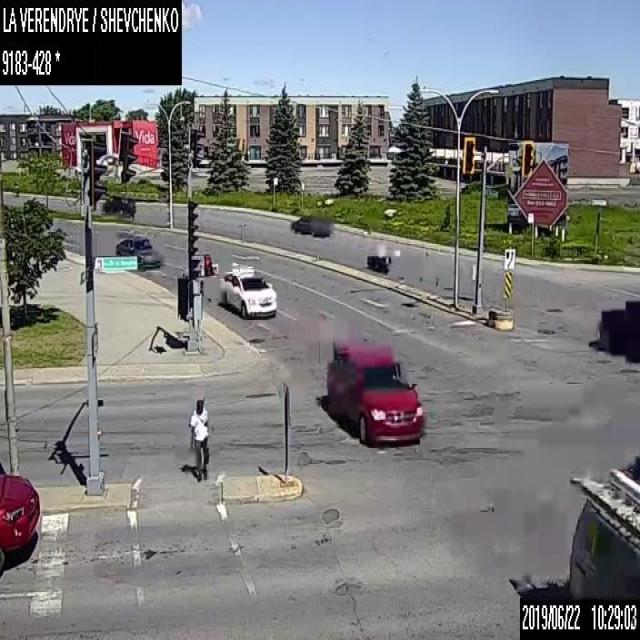pedestrian: (188, 398, 208, 482)
vehicle: (566, 453, 639, 596), (326, 341, 424, 443), (0, 461, 41, 579), (216, 268, 276, 319), (115, 231, 162, 268), (290, 214, 330, 238), (103, 193, 135, 215), (365, 249, 391, 271)
